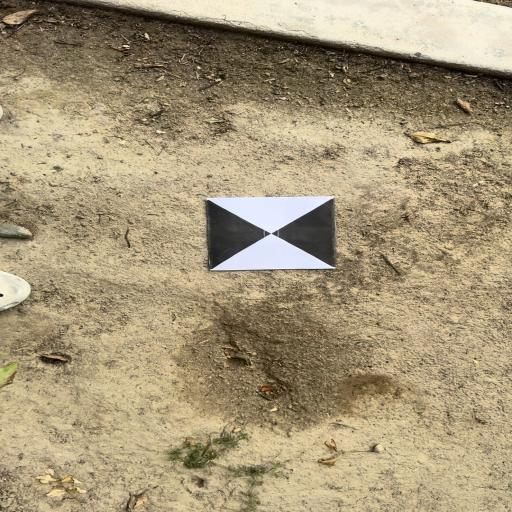target: (205, 196, 337, 270)
